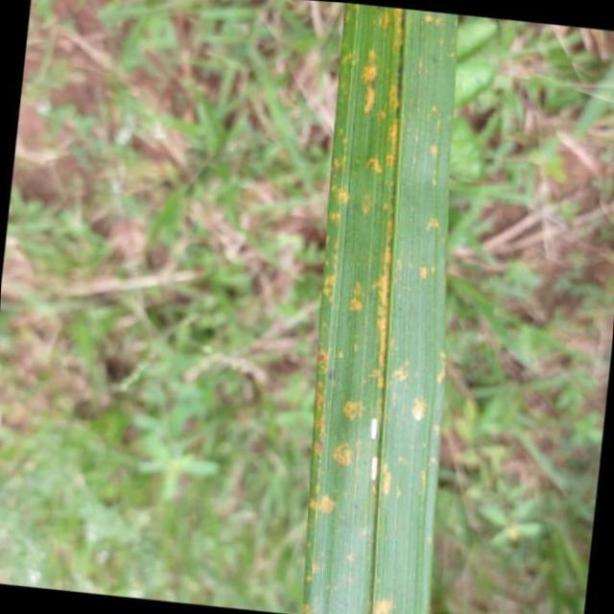Kalium: (304, 0, 452, 614)
